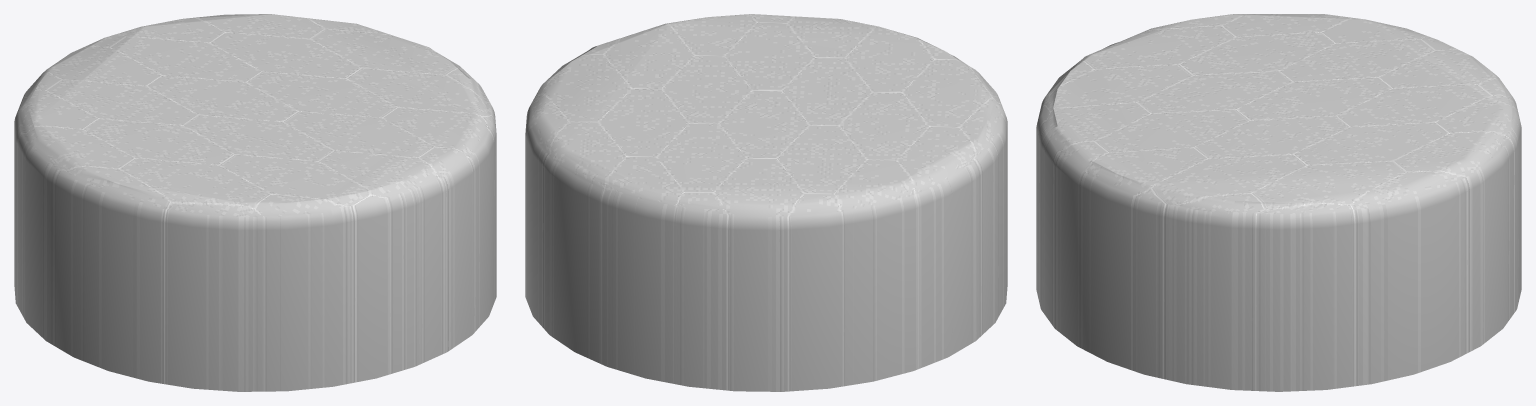
Rendered from pouf.glb.
3 renders of one model, left to right at view 1: azimuth 30°, elevation 25°; view 2: azimuth 150°, elevation 25°; view 3: azimuth 270°, elevation 25°, orthographic.
Visible parts, largest first — view 1: pouf; view 2: pouf; view 3: pouf.
Boxes of the visible parts, left/top/right/bottom form: pouf: left=14, top=14, right=496, bottom=391; pouf: left=525, top=14, right=1007, bottom=391; pouf: left=1036, top=14, right=1521, bottom=391.
Size of the model in its own units: 9.52 by 3.96 by 9.52.
1 material, 1 textured.
